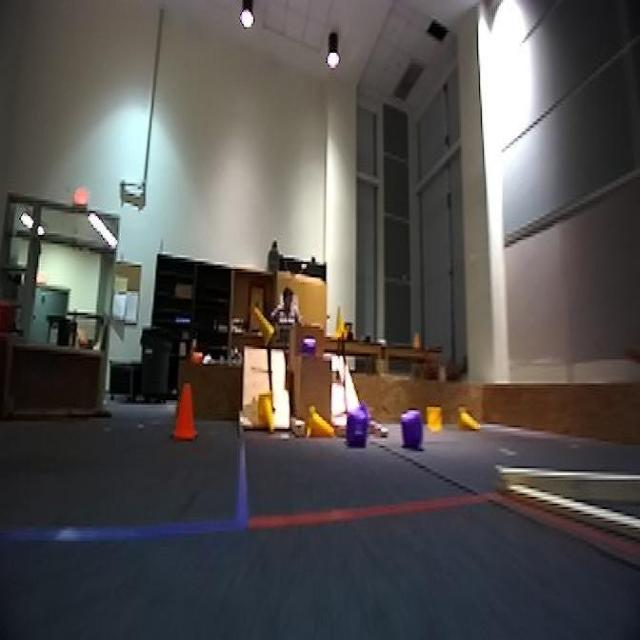frc_cone: (235, 290, 268, 348), (324, 295, 349, 342), (453, 408, 487, 438), (306, 407, 335, 439), (258, 390, 277, 436), (426, 398, 443, 434)
frc_cube: (348, 408, 370, 442), (402, 417, 421, 446), (301, 337, 319, 357)
